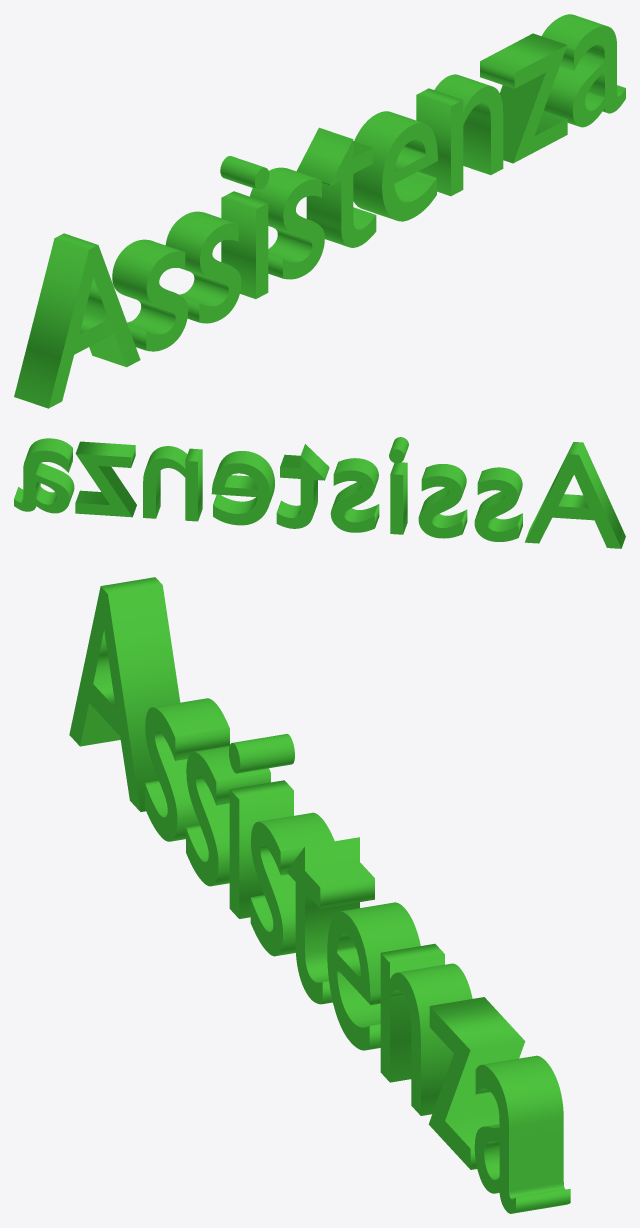
File: NewWebMenuAssistenza5.gltf
3 renders of one model, top to bottom at view 1: azimuth 30°, elevation 25°; view 2: azimuth 150°, elevation 25°; view 3: azimuth 270°, elevation 25°, orthographic. The views are drawn at different scales.
Visible parts, largest first — view 1: Assistenza; view 2: Assistenza; view 3: Assistenza.
Part boxes in pixels (x1,y1,x2,y2): Assistenza: (14,14,625,408); Assistenza: (14,437,625,548); Assistenza: (69,577,570,1213).
Size of the model in its own units: 0.9838 by 0.1723 by 0.4228.
